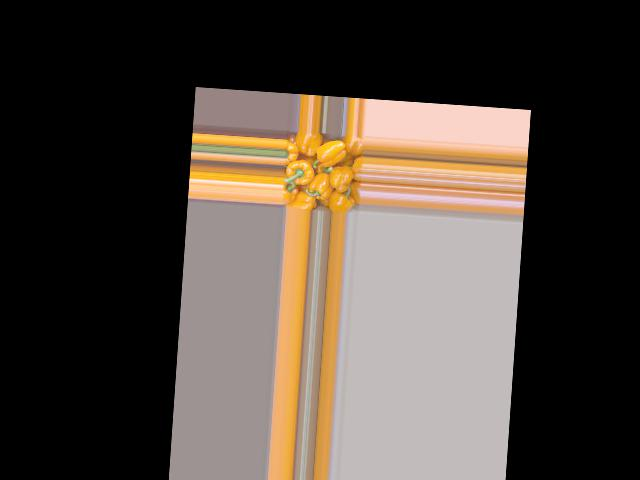bell_pepper: (343, 175, 362, 206)
